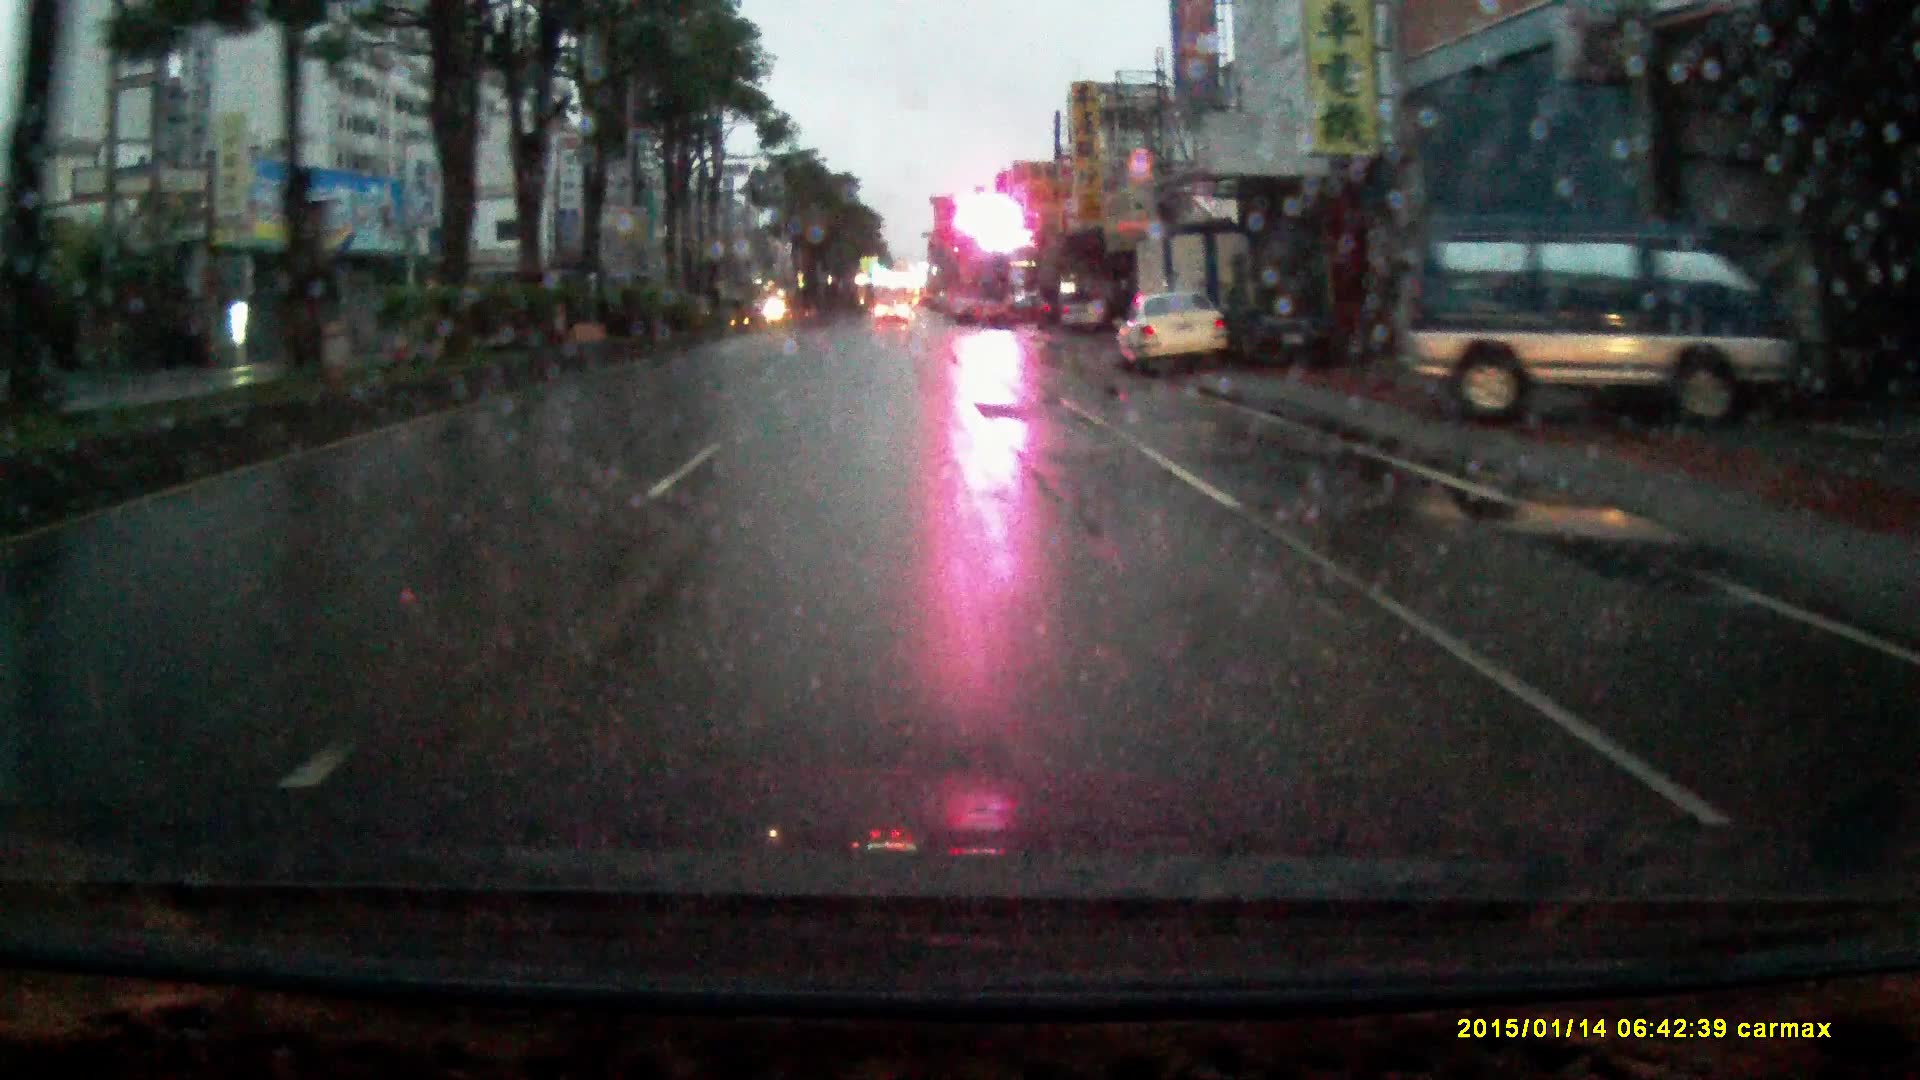vehicle: (1408, 212, 1796, 433), (1125, 224, 1269, 376), (1116, 289, 1238, 376), (976, 289, 1052, 331), (1048, 291, 1105, 335), (876, 298, 910, 328)
